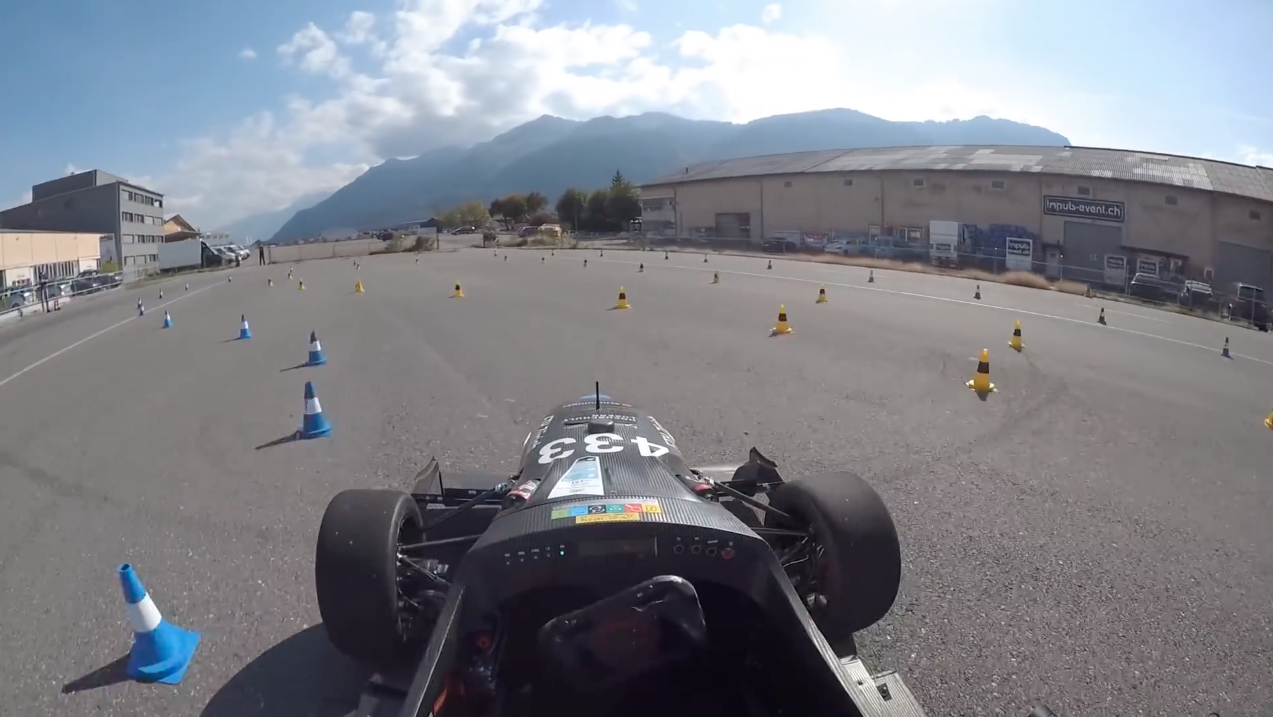lcone: (107, 558, 211, 690), (290, 374, 338, 439), (296, 325, 334, 371), (234, 310, 259, 342)
rcone: (963, 346, 1000, 400), (768, 299, 797, 339), (1003, 318, 1031, 354), (611, 283, 636, 314)
